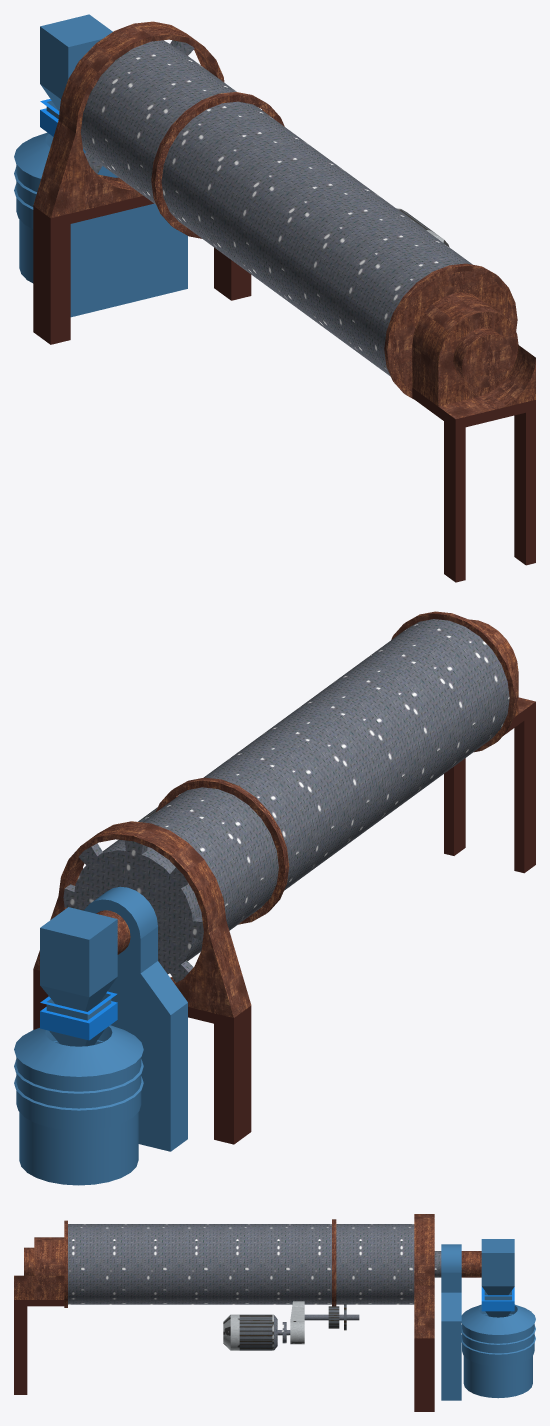
File: 干磨机.glb
3 views of the same model, one above another, from view 1: azimuth 30°, elevation 25°; view 2: azimuth 150°, elevation 25°; view 3: azimuth 270°, elevation 25° (orthographic). The views are drawn at different scales.
Parts seen in each view (by area): view 1: root.012, root.007, root, root.002, root.001, root.011; view 2: root.012, root.001, root, root.002, root.007, root.011; view 3: root.012, root.001, root.007, root, root.002, root.003, root.008, root.011, root.004, root.006.
Part boxes in pixels (left/top/right/bottom): root.012: left=81, top=40, right=472, bottom=376; root.007: left=384, top=263, right=535, bottom=582; root: left=33, top=21, right=251, bottom=344; root.002: left=70, top=148, right=187, bottom=317; root.001: left=14, top=14, right=112, bottom=283; root.011: left=151, top=92, right=284, bottom=238; root.012: left=63, top=619, right=509, bottom=982; root.001: left=14, top=907, right=143, bottom=1185; root: left=33, top=821, right=251, bottom=1144; root.002: left=84, top=886, right=187, bottom=1151; root.007: left=391, top=611, right=535, bottom=873; root.011: left=155, top=777, right=289, bottom=924; root.012: left=68, top=1224, right=414, bottom=1304; root.001: left=461, top=1239, right=535, bottom=1398; root.007: left=14, top=1220, right=67, bottom=1394; root: left=414, top=1214, right=434, bottom=1411; root.002: left=441, top=1244, right=461, bottom=1400; root.003: left=223, top=1301, right=304, bottom=1350; root.008: left=461, top=1251, right=481, bottom=1277; root.011: left=332, top=1219, right=336, bottom=1306; root.004: left=304, top=1314, right=359, bottom=1320; root.006: left=328, top=1306, right=339, bottom=1328.
Size of the model in its own units: 2.42 by 2.7 by 7.76.
7 materials, 5 textured.
